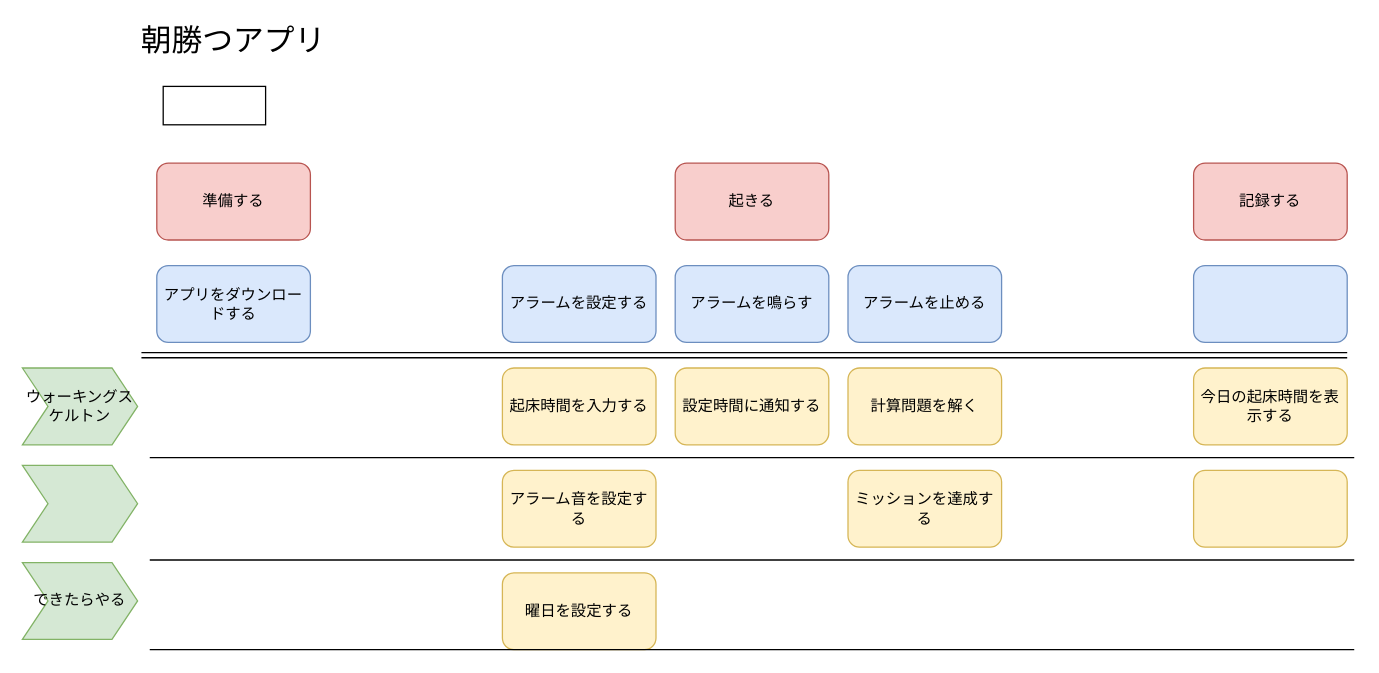
Some shapes in this 1379 by 673 pixel diagram are drawn without their labels. Here are the shapes that lost their labels. From the top down, the centre of each, then its label:
At (214,105): "朝弱い人".
At (1269,303): "起床時間を確認する".
At (79,503): "設定".
At (1269,508): "過去の記憶を表示する".
